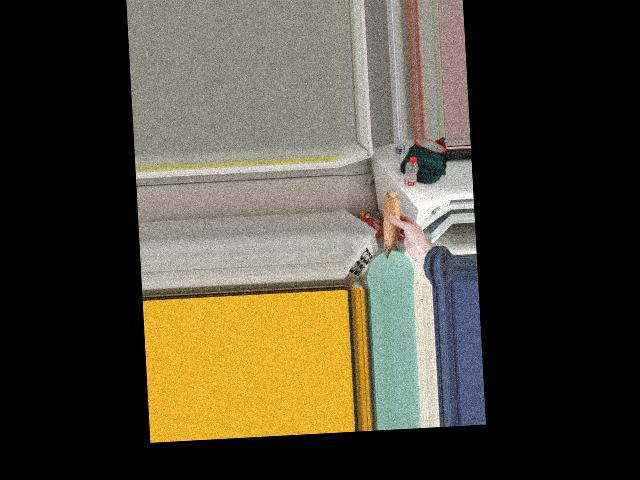sweet_potato: (382, 190, 404, 255)
